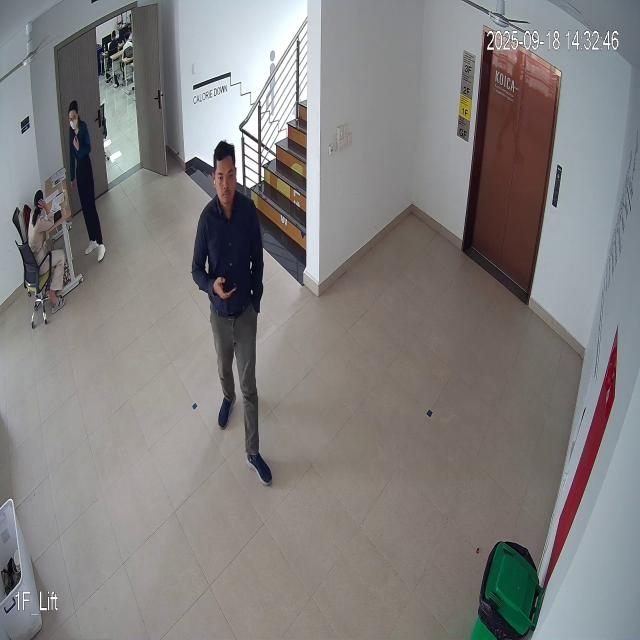face: (209, 139, 242, 207)
